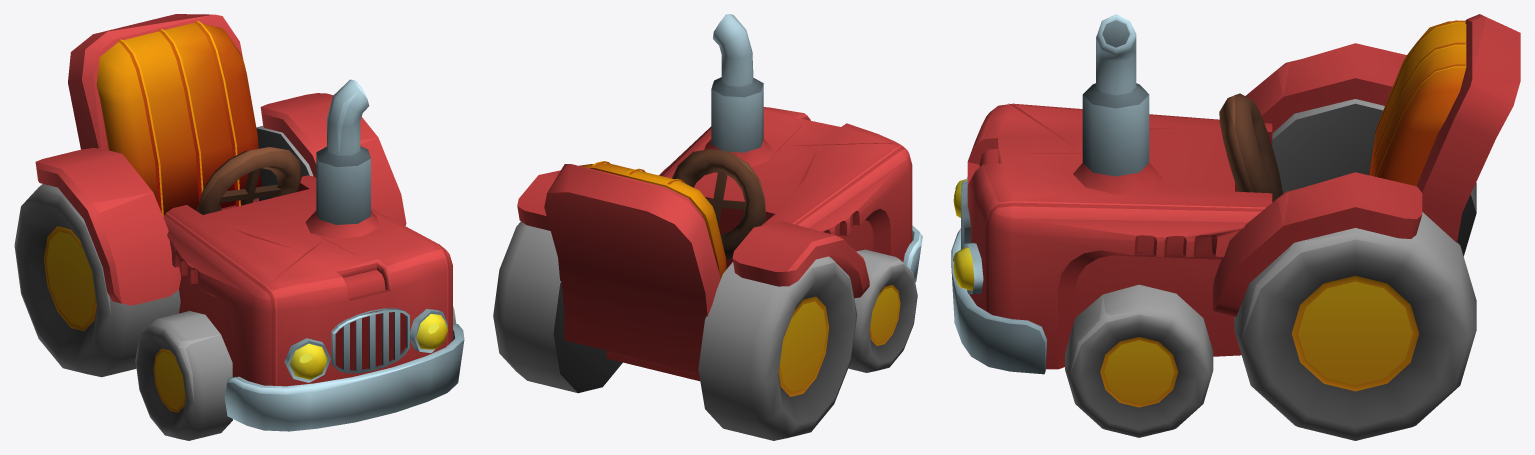
The model's file is truck.glb.
The picture shows the model from 3 angles, left to right: view 1: azimuth 30°, elevation 25°; view 2: azimuth 150°, elevation 25°; view 3: azimuth 270°, elevation 25°; orthographic projection. The views are drawn at different scales.
Visible parts, largest first — view 1: truck, truckwheel.001, truckwheel.007, trucktorus; view 2: truck, truckwheel.001, truckwheel.007, trucktorus; view 3: truck, truckwheel.001, truckwheel.008, trucktorus.
Boxes of the visible parts, left/top/right/bottom form: truck: left=35, top=14, right=464, bottom=431; truckwheel.001: left=14, top=126, right=313, bottom=377; truckwheel.007: left=135, top=311, right=232, bottom=440; trucktorus: left=196, top=147, right=301, bottom=214; truck: left=517, top=14, right=922, bottom=381; truckwheel.001: left=493, top=221, right=857, bottom=440; truckwheel.007: left=848, top=249, right=917, bottom=372; trucktorus: left=672, top=149, right=766, bottom=259; truck: left=951, top=14, right=1520, bottom=374; truckwheel.001: left=1234, top=99, right=1476, bottom=440; truckwheel.008: left=1065, top=284, right=1213, bottom=437; trucktorus: left=1219, top=93, right=1282, bottom=202.
Size of the model in its own units: 1.7 by 1.78 by 2.42.
Materials: 1 (1 with a texture image).
